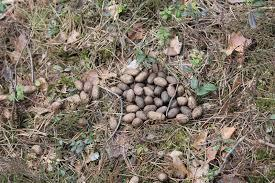Elk: (127, 77, 198, 123)
